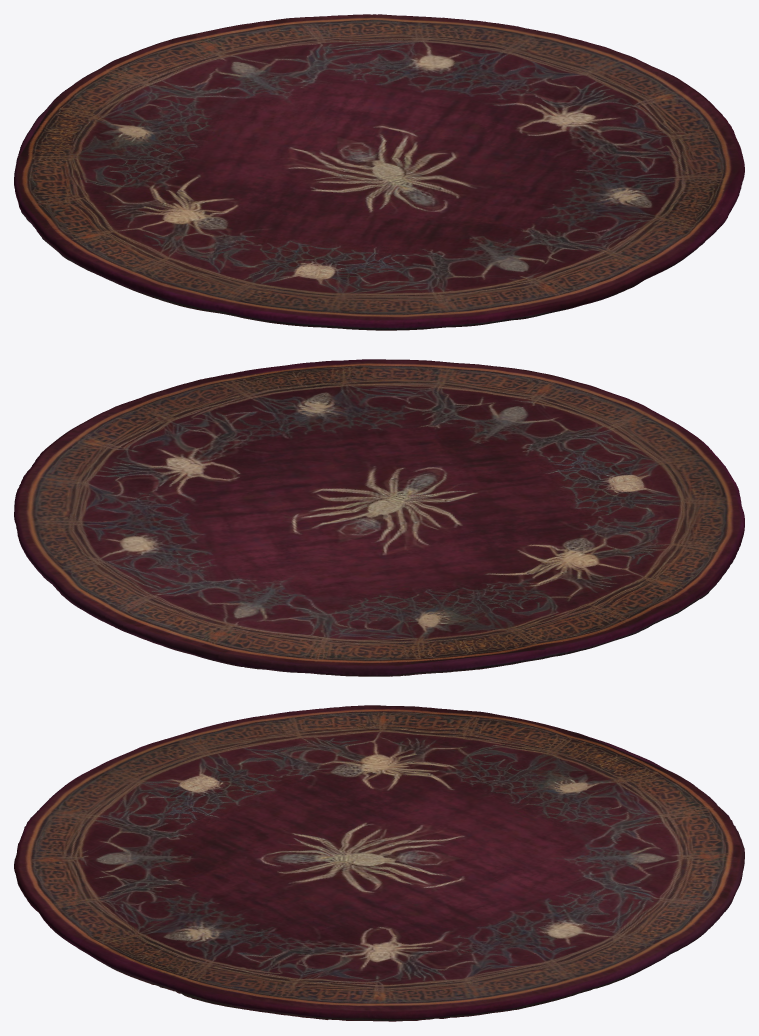
Rendered from Meshy_AI_Rugs_with_designs_of__0221052058_texture.glb.
The picture shows the model from 3 angles, top to bottom: view 1: azimuth 30°, elevation 25°; view 2: azimuth 150°, elevation 25°; view 3: azimuth 270°, elevation 25°; orthographic projection.
Bounding box in the file's own units: 1.79 × 0.0338 × 1.79.
1 material, 1 textured.
